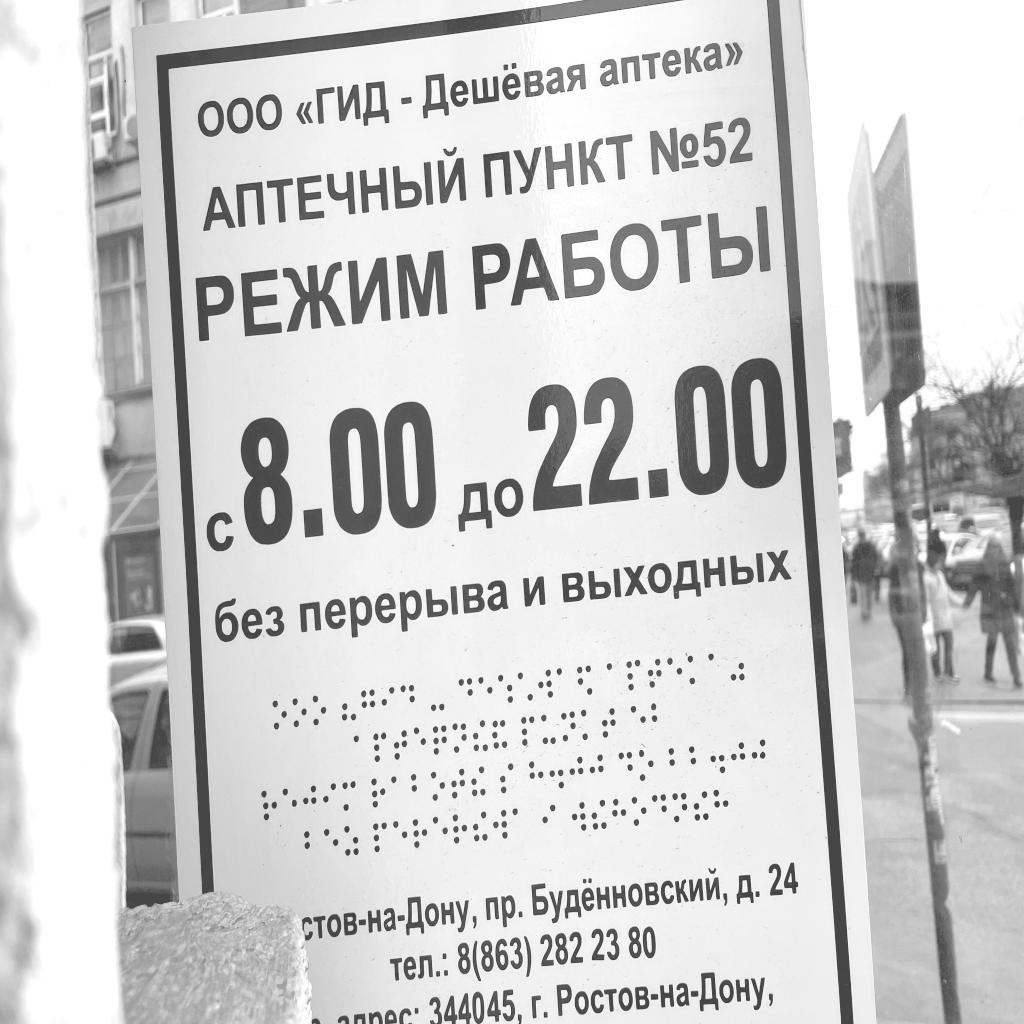_n: (672, 791, 688, 824), (561, 710, 577, 742), (452, 723, 467, 754)
_y: (541, 713, 557, 746)
a: (708, 652, 724, 684), (390, 775, 406, 807), (556, 666, 571, 697), (353, 734, 368, 765), (512, 807, 527, 838), (606, 662, 621, 692)
b: (304, 830, 320, 864), (410, 772, 426, 804)
ch: (432, 725, 447, 756)
d: (399, 683, 416, 716), (617, 750, 634, 783), (652, 793, 667, 825), (458, 677, 473, 708)
defis: (430, 682, 446, 713)
e: (323, 828, 340, 861), (282, 788, 298, 821), (432, 815, 448, 847), (667, 656, 683, 687), (392, 820, 408, 850), (478, 676, 493, 705), (413, 726, 427, 757)
g: (361, 688, 376, 720)
gh: (303, 785, 317, 817)
i: (541, 803, 557, 837), (381, 685, 396, 717), (323, 782, 337, 815)
iKratkoe: (492, 719, 508, 750)
ii: (591, 798, 608, 831), (473, 719, 489, 752), (473, 810, 489, 842), (694, 790, 710, 822), (471, 765, 486, 797)
k: (687, 654, 703, 686), (581, 709, 597, 741)
kavichki1: (341, 690, 357, 722)
kavichki2: (731, 649, 746, 682)
m: (341, 779, 357, 812)
o: (638, 749, 655, 783), (272, 699, 288, 731), (430, 770, 446, 802), (631, 796, 647, 827), (312, 694, 327, 727), (292, 697, 307, 728)
p: (372, 821, 388, 854), (626, 658, 641, 692), (373, 731, 387, 763), (521, 716, 535, 747)
r: (412, 818, 429, 850), (371, 776, 387, 809), (452, 813, 468, 846), (261, 790, 278, 821)
s: (500, 762, 515, 795)
sh: (498, 674, 514, 705)
t: (393, 729, 408, 762), (647, 658, 662, 690), (601, 707, 616, 739), (451, 768, 466, 799)
tochka: (548, 756, 565, 790), (710, 741, 726, 775)
v: (570, 801, 587, 833), (493, 808, 509, 841), (538, 668, 554, 699)
x: (713, 789, 730, 822), (612, 798, 627, 829)
ya: (577, 664, 594, 696)
yo: (518, 671, 534, 702)
z: (343, 824, 360, 857)
